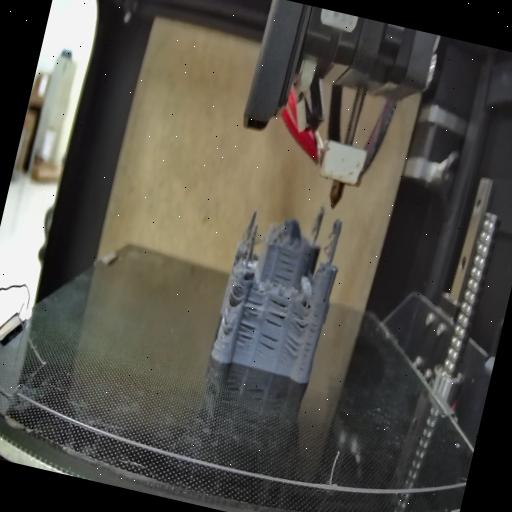cracks: (298, 308, 322, 382), (234, 296, 264, 352), (273, 250, 299, 284), (262, 296, 289, 328), (287, 304, 313, 334), (280, 332, 306, 362), (257, 330, 280, 355), (216, 315, 238, 340), (226, 285, 244, 309)
